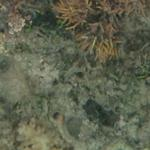dead: (11, 50, 147, 146)
